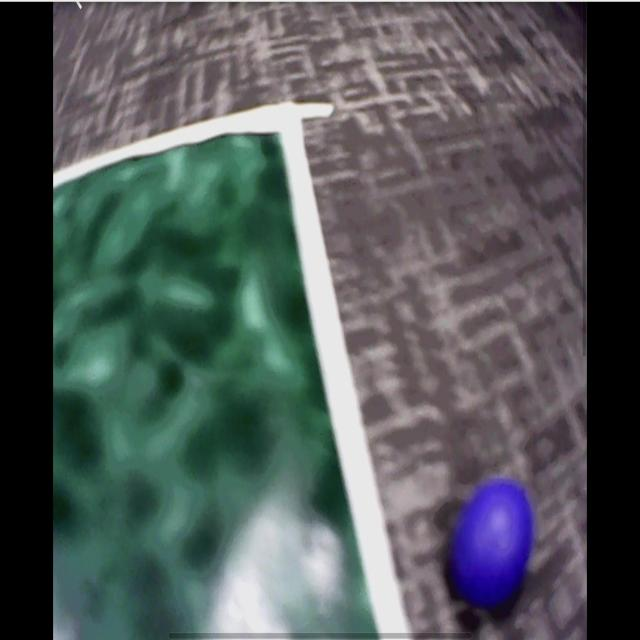ball: (451, 483, 533, 602)
